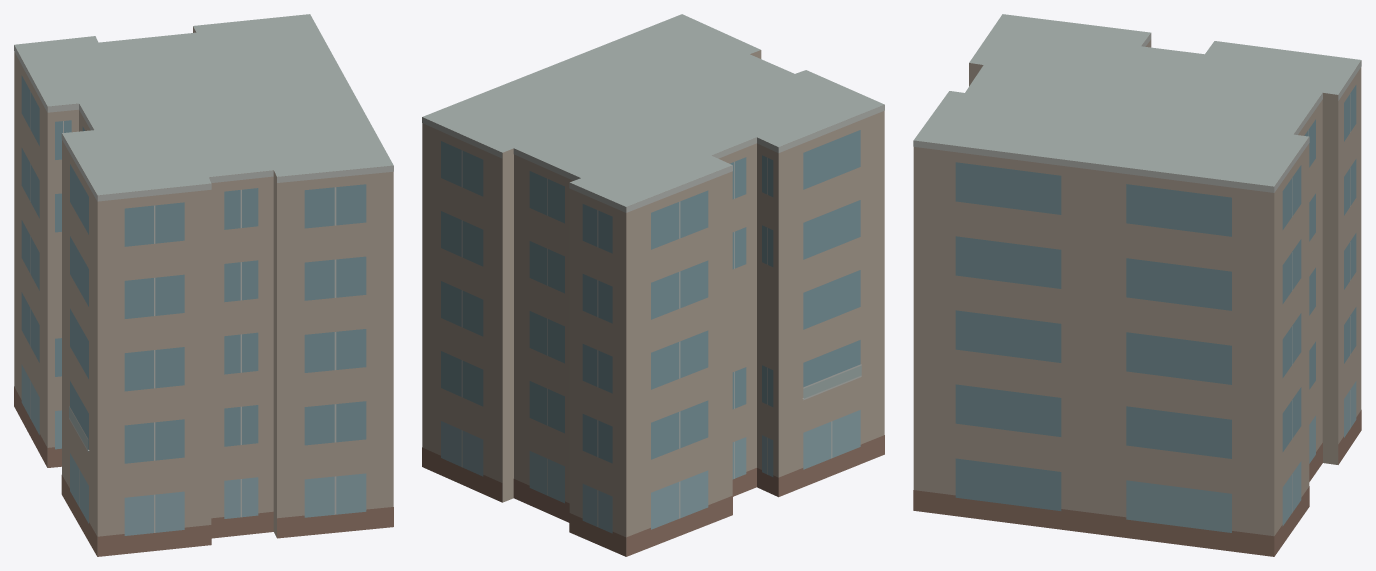
The model's file is survey-upis-32877571.glb.
3 renders of one model, left to right at view 1: azimuth 30°, elevation 25°; view 2: azimuth 150°, elevation 25°; view 3: azimuth 270°, elevation 25°, orthographic. The views are drawn at different scales.
Visible parts, largest first — view 1: survey-upis-32877571.tmp; view 2: survey-upis-32877571.tmp; view 3: survey-upis-32877571.tmp.
Boxes of the visible parts, left/top/right/bottom form: survey-upis-32877571.tmp: left=14, top=14, right=393, bottom=556; survey-upis-32877571.tmp: left=422, top=14, right=884, bottom=556; survey-upis-32877571.tmp: left=913, top=14, right=1361, bottom=556.
Bounding box in the file's own units: 14.21 × 14.2 × 15.58.
